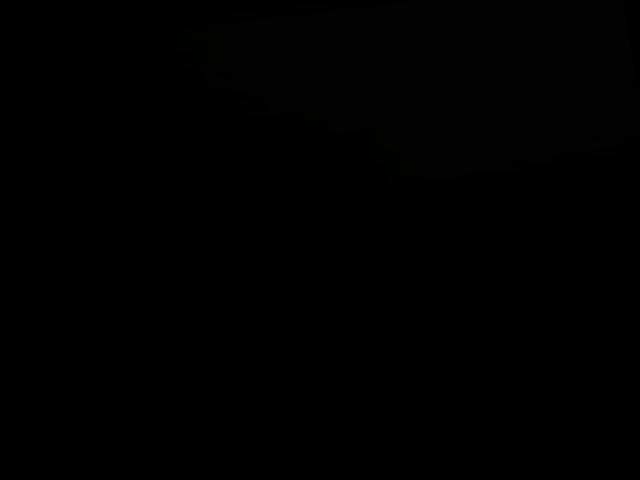iha: (310, 232, 393, 267)
